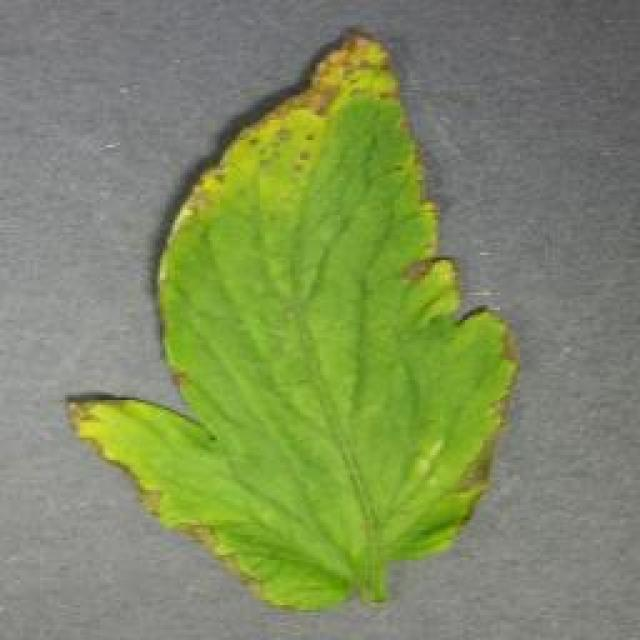Tomato bacterial spot leaf: (64, 29, 524, 614)
